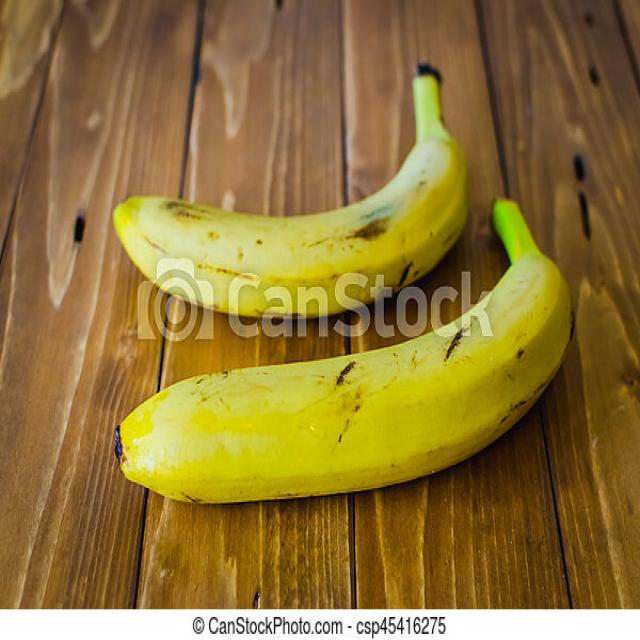banana: (116, 196, 574, 504), (110, 67, 472, 318)
